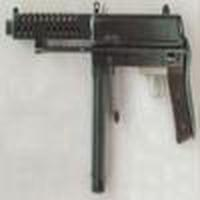gun: (2, 5, 200, 126)
